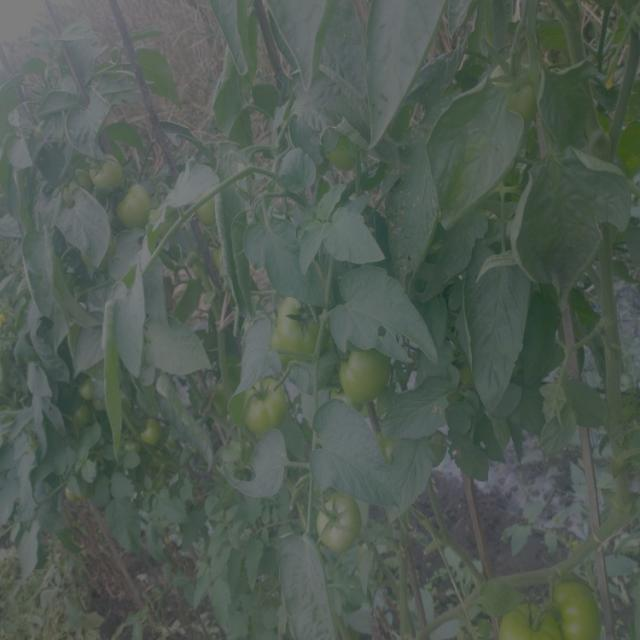tomato: (330, 341, 392, 410), (269, 290, 325, 356), (310, 496, 364, 558), (237, 378, 291, 438), (498, 587, 555, 640), (554, 578, 602, 640), (107, 182, 154, 239), (498, 57, 543, 111), (85, 145, 126, 195), (326, 134, 365, 172), (134, 412, 168, 451), (74, 374, 100, 404), (72, 405, 99, 430), (202, 198, 218, 226)
